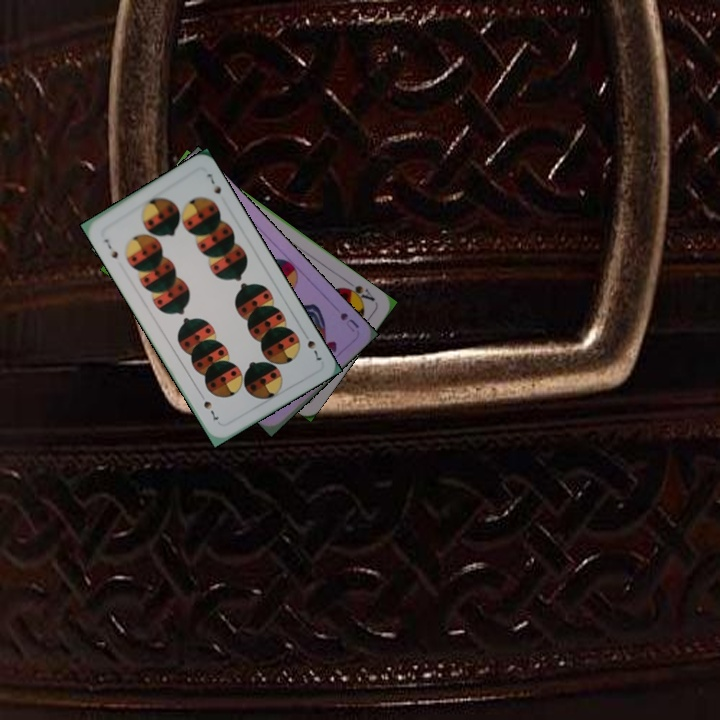S7: (298, 327, 324, 363), (100, 235, 121, 261)
SA: (339, 281, 378, 305)
SU: (336, 309, 362, 335)
